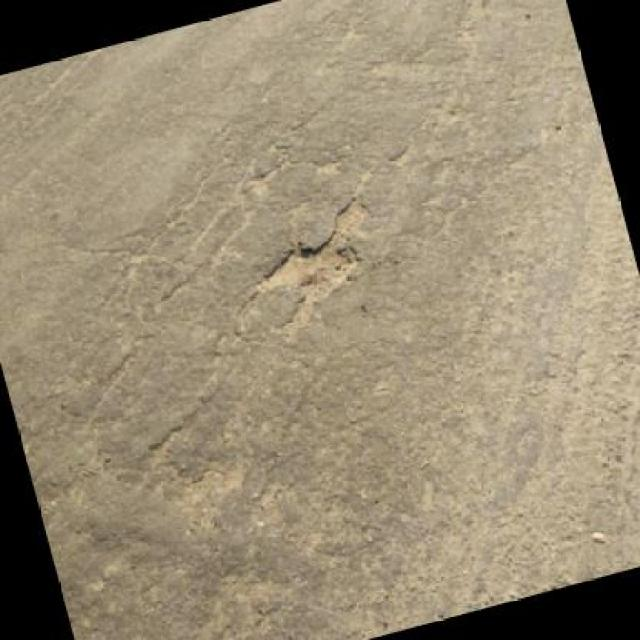pothole1: (242, 226, 371, 317), (326, 192, 374, 234)
